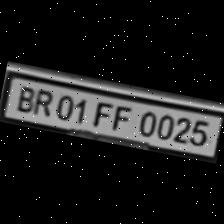0: (132, 104, 160, 137), (51, 88, 78, 122), (153, 109, 176, 140)
1: (68, 93, 92, 125)
2: (170, 111, 193, 144)
5: (185, 114, 211, 148)
B: (12, 81, 37, 113)
F: (107, 100, 134, 133), (86, 97, 112, 128)
R: (29, 85, 55, 116)
